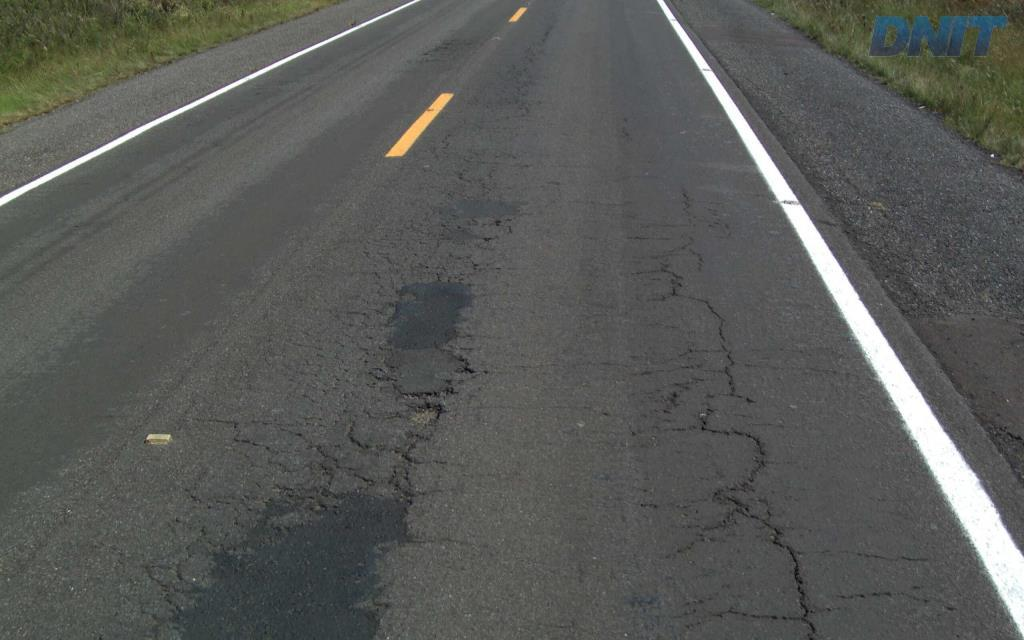crack: (701, 487, 818, 638), (297, 442, 420, 512), (393, 387, 458, 422), (262, 484, 315, 512)
pothole: (397, 400, 447, 427)
